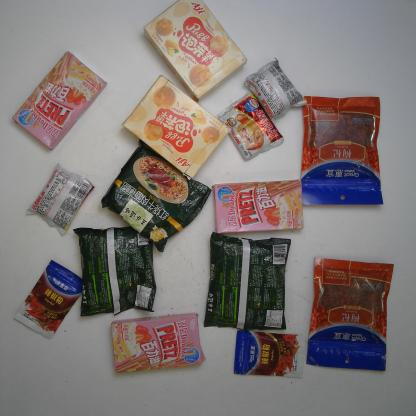Dessert: (120, 74, 230, 181), (143, 0, 248, 102), (12, 51, 107, 150), (111, 312, 206, 374), (211, 178, 304, 234), (26, 162, 96, 235), (215, 89, 284, 162), (243, 56, 308, 122)
Dried Fruit: (306, 257, 395, 372), (301, 95, 384, 206)
Instant Noodles: (101, 139, 212, 253), (204, 231, 292, 331), (72, 226, 157, 317)
Seasoner: (13, 259, 82, 340), (234, 330, 306, 379)
